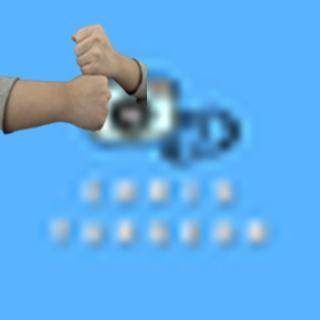CAREFUL: (9, 23, 137, 134)
